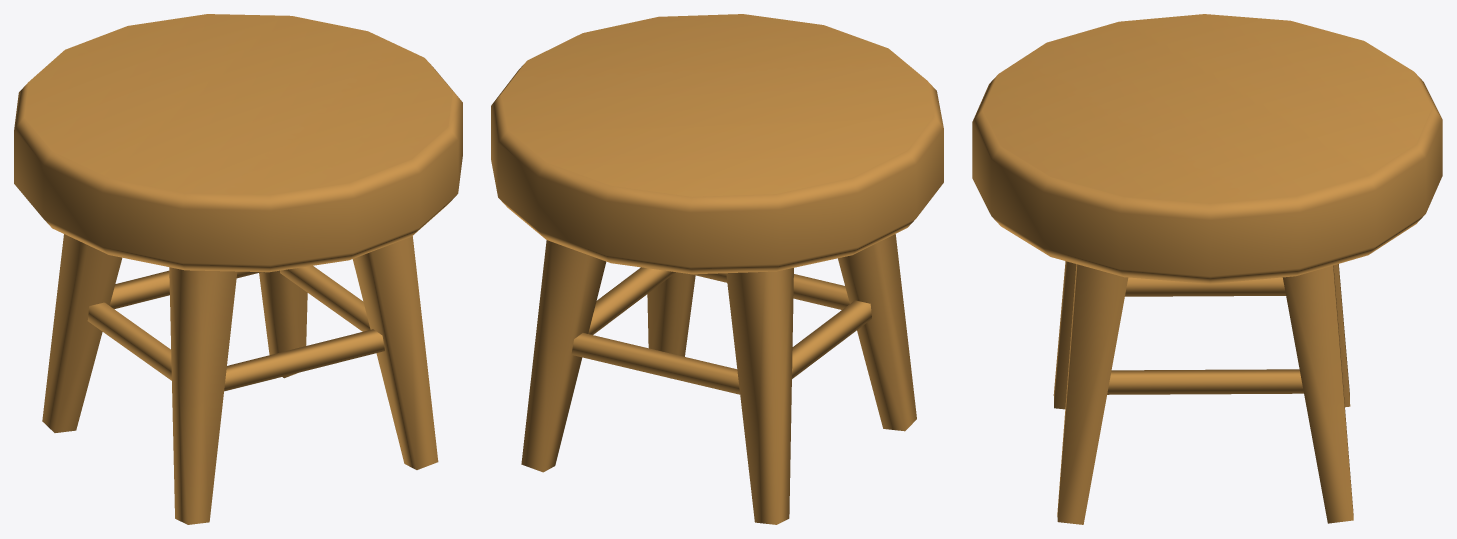
The model's file is Banquito.fbx.
The picture shows the model from 3 angles, left to right: view 1: azimuth 30°, elevation 25°; view 2: azimuth 150°, elevation 25°; view 3: azimuth 270°, elevation 25°; orthographic projection. The views are drawn at different scales.
Parts seen in each view (by area): view 1: Banquito; view 2: Banquito; view 3: Banquito.
Boxes of the visible parts, left/top/right/bottom form: Banquito: left=14, top=14, right=462, bottom=524; Banquito: left=491, top=14, right=943, bottom=524; Banquito: left=972, top=14, right=1442, bottom=524.
Bounding box in the file's own units: 155 × 129 × 155.
Materials: 1 (1 with a texture image).
